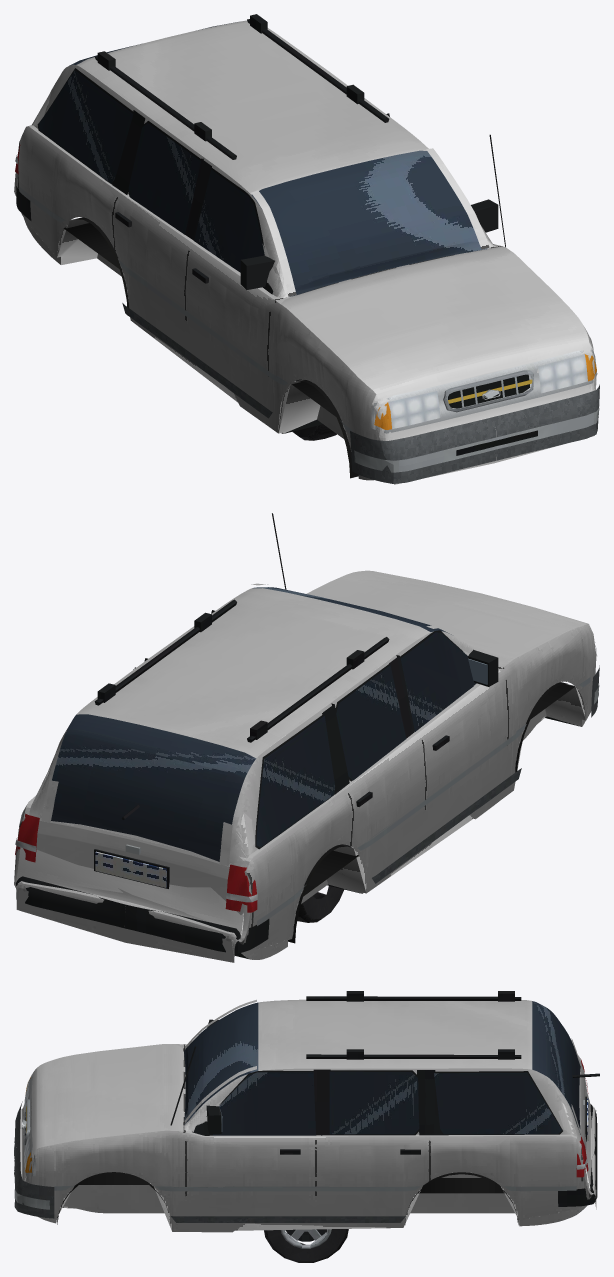
Rendered from pathway97.glb.
The picture shows the model from 3 angles, top to bottom: view 1: azimuth 30°, elevation 25°; view 2: azimuth 150°, elevation 25°; view 3: azimuth 270°, elevation 25°; orthographic projection. The views are drawn at different scales.
Visible parts, largest first — view 1: Paint, Body, Body_far, Paint_far; view 2: Paint, Body, Paint_far, Body_far, Wheel; view 3: Paint, Body, Body_far, Paint_far, Wheel, Wheel_far.
Boxes of the visible parts, x1=… form: Paint: x1=14, y1=20, x2=596, y2=484; Body: x1=15, y1=19, x2=599, y2=483; Body_far: x1=63, y1=14, x2=596, y2=433; Paint_far: x1=32, y1=42, x2=594, y2=484; Paint: x1=14, y1=570, x2=596, y2=962; Body: x1=15, y1=513, x2=599, y2=958; Paint_far: x1=16, y1=638, x2=585, y2=962; Body_far: x1=94, y1=513, x2=578, y2=948; Wheel: x1=297, y1=844, x2=351, y2=922; Paint: x1=20, y1=999, x2=596, y2=1232; Body: x1=14, y1=996, x2=599, y2=1224; Body_far: x1=21, y1=991, x2=599, y2=1200; Paint_far: x1=24, y1=1041, x2=596, y2=1231; Wheel: x1=264, y1=1229, x2=348, y2=1262; Wheel_far: x1=285, y1=1229, x2=340, y2=1257.
Size of the model in its own units: 1.85 by 2.29 by 4.77.
Materials: 3 (3 with a texture image).
